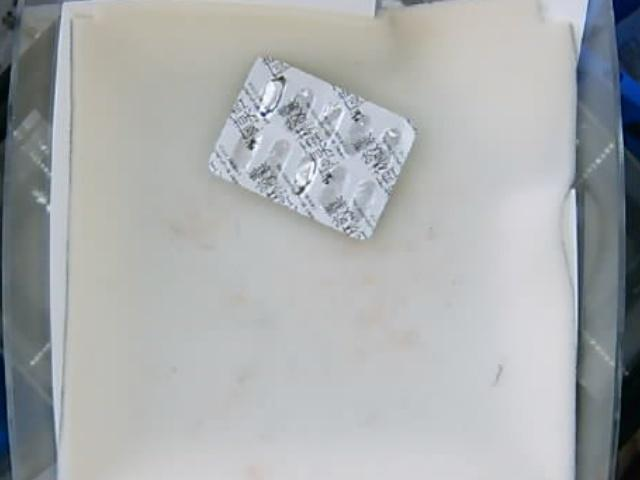Medicine: (206, 54, 416, 239)
